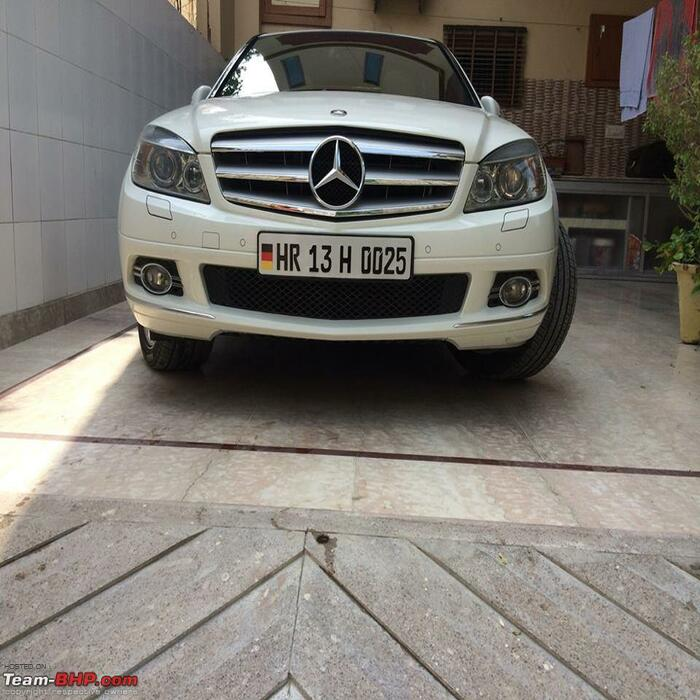n: (258, 231, 412, 280)
